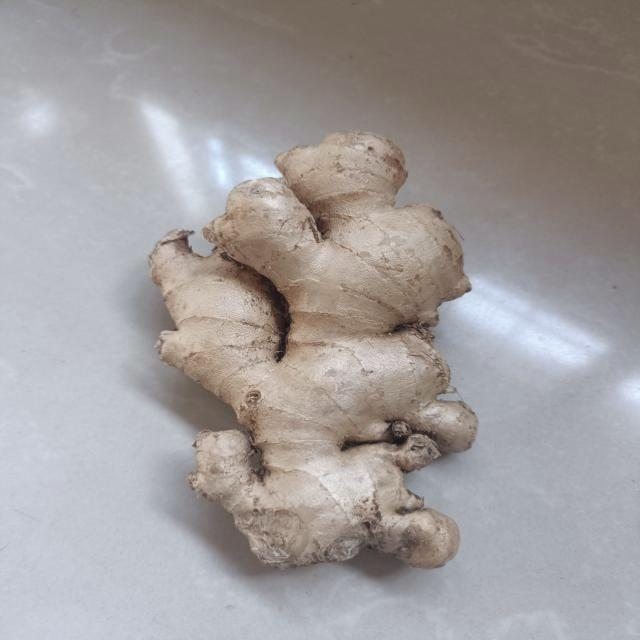ginger: (136, 125, 486, 575)
